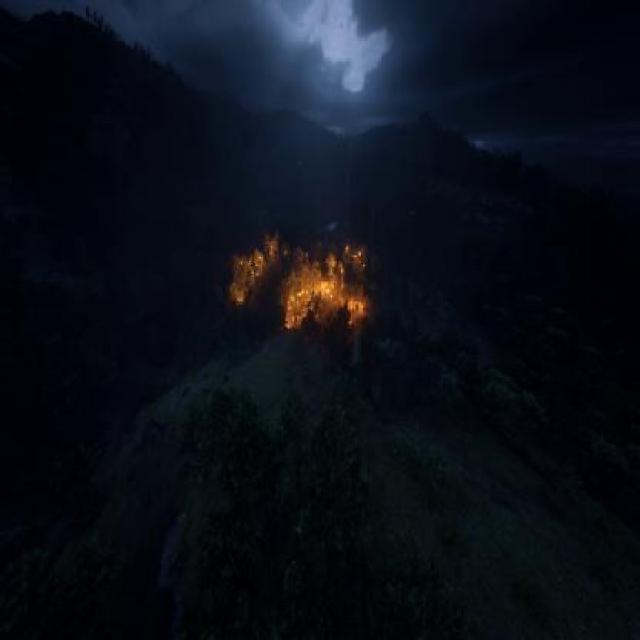Fire: (208, 218, 383, 354)
